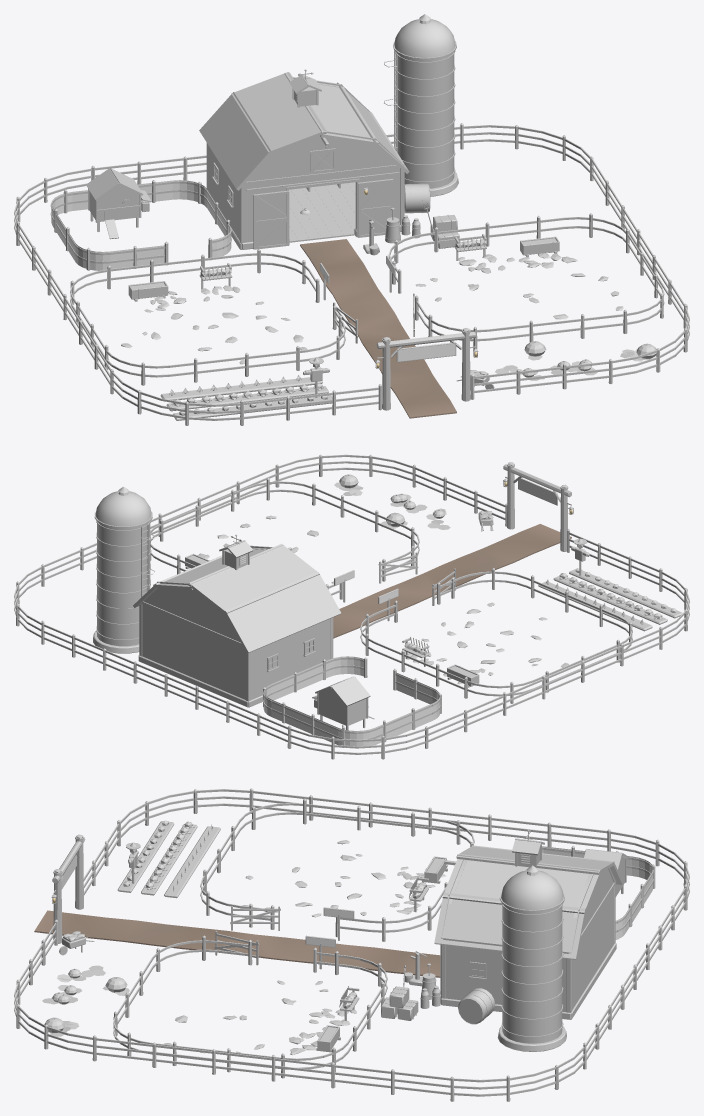
File: zon_farm.glb
The picture shows the model from 3 angles, top to bottom: view 1: azimuth 30°, elevation 25°; view 2: azimuth 150°, elevation 25°; view 3: azimuth 270°, elevation 25°; orthographic projection. The views are drawn at different scales.
Parts seen in each view (by area): view 1: SM_zon_farm_kit_farm_x0_zm1, SM_zon_farm_paths_stone_vc_x0_zm1, SM_zon_farm_kit_farm_clip_x0_zm1, SCREEN_bld_farm_gate_sign_front__0; view 2: SM_zon_farm_kit_farm_x0_zm1, SM_zon_farm_paths_stone_vc_x0_zm1, SM_zon_farm_kit_farm_clip_x0_zm1; view 3: SM_zon_farm_kit_farm_x0_zm1, SM_zon_farm_paths_stone_vc_x0_zm1, SM_zon_farm_kit_farm_clip_x0_zm1.
Boxes of the visible parts, x1=… form: SM_zon_farm_kit_farm_x0_zm1: x1=14, y1=14, x2=689, y2=425; SM_zon_farm_paths_stone_vc_x0_zm1: x1=300, y1=239, x2=456, y2=418; SM_zon_farm_kit_farm_clip_x0_zm1: x1=51, y1=180, x2=231, y2=270; SCREEN_bld_farm_gate_sign_front__0: x1=398, y1=343, x2=455, y2=361; SM_zon_farm_kit_farm_x0_zm1: x1=14, y1=454, x2=689, y2=759; SM_zon_farm_paths_stone_vc_x0_zm1: x1=333, y1=524, x2=571, y2=638; SM_zon_farm_kit_farm_clip_x0_zm1: x1=263, y1=656, x2=439, y2=748; SM_zon_farm_kit_farm_x0_zm1: x1=14, y1=788, x2=689, y2=1101; SM_zon_farm_paths_stone_vc_x0_zm1: x1=34, y1=910, x2=440, y2=977; SM_zon_farm_kit_farm_clip_x0_zm1: x1=542, y1=846, x2=653, y2=939.
Size of the model in its own units: 28.69 by 8.11 by 28.12.
